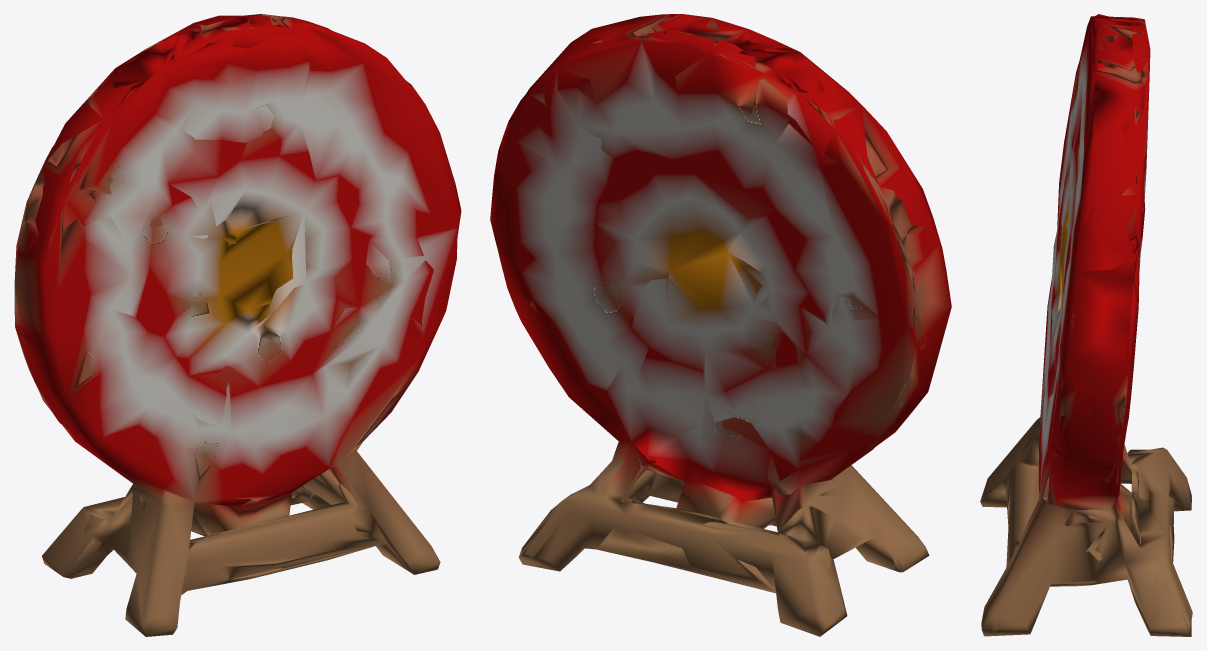
Rendered from gen3d-bullseye-target-lod0.glb.
The picture shows the model from 3 angles, left to right: view 1: azimuth 30°, elevation 25°; view 2: azimuth 150°, elevation 25°; view 3: azimuth 270°, elevation 25°; orthographic projection. The views are drawn at different scales.
Visible parts, largest first — view 1: part_0; view 2: part_0; view 3: part_0.
Boxes of the visible parts, x1,y1,x2,y2 form: part_0: (14, 14, 461, 636); part_0: (490, 14, 951, 636); part_0: (980, 14, 1192, 636).
Bounding box in the file's own units: 0.8214 × 0.9945 × 0.3615.
